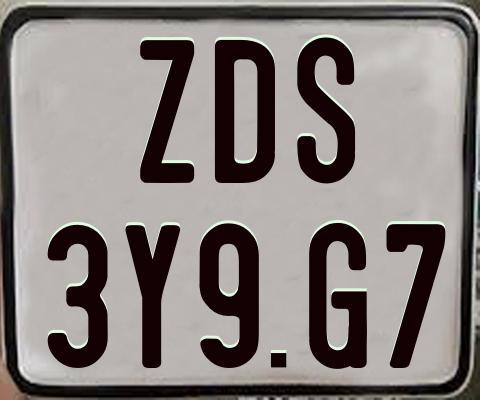3: (44, 223, 108, 372)
7: (386, 221, 446, 371)
9: (199, 221, 259, 368)
D: (214, 39, 275, 186)
G: (307, 220, 366, 370)
S: (297, 37, 355, 187)
Y: (122, 225, 179, 368)
Z: (138, 37, 198, 181)
